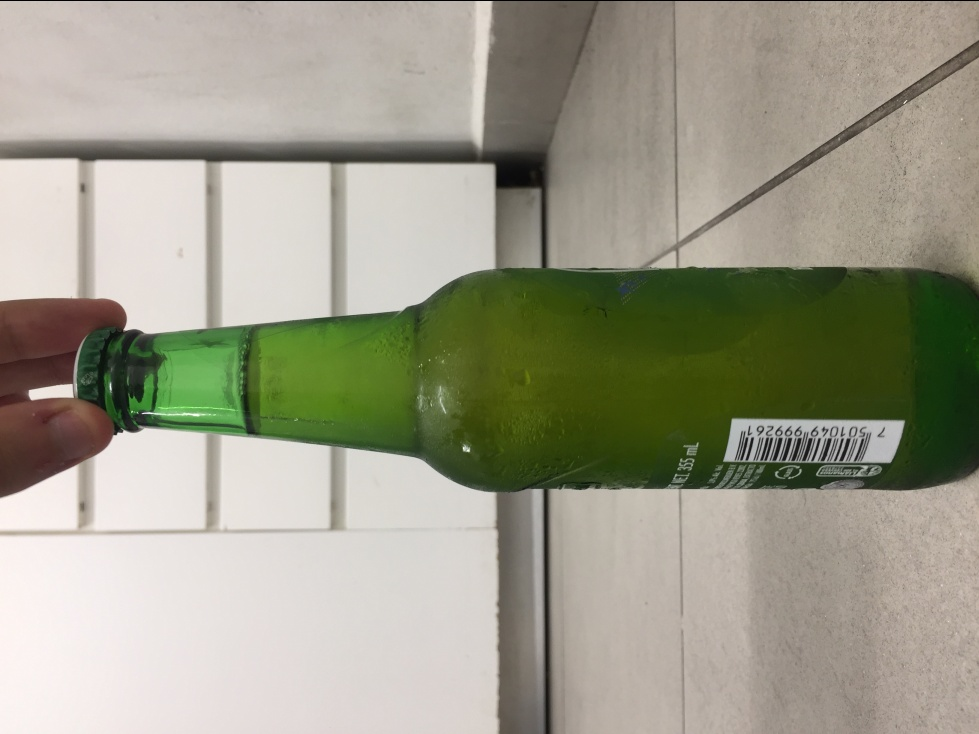heineken: (70, 265, 979, 494)
